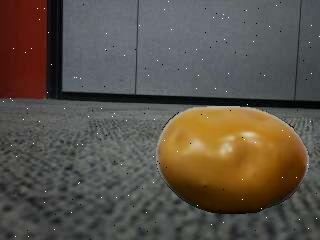Potato: (157, 106, 313, 215)
